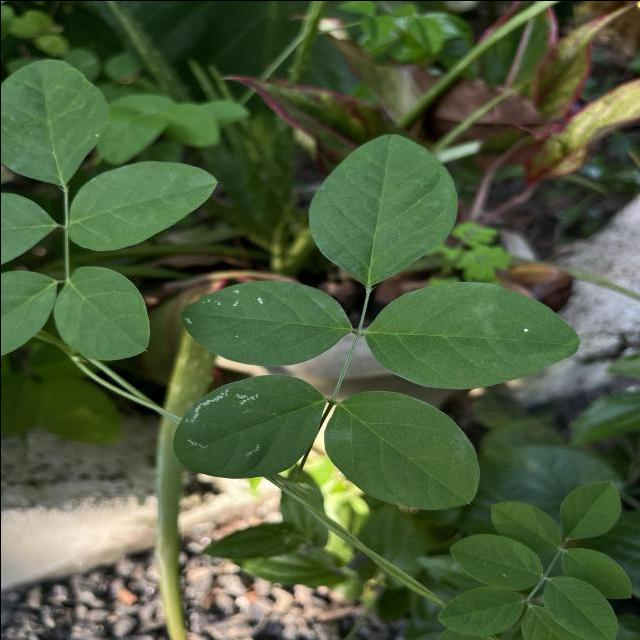Clitoria ternatea: (364, 280, 582, 390), (306, 132, 458, 286), (322, 389, 481, 510), (170, 372, 326, 478), (178, 277, 352, 368)
